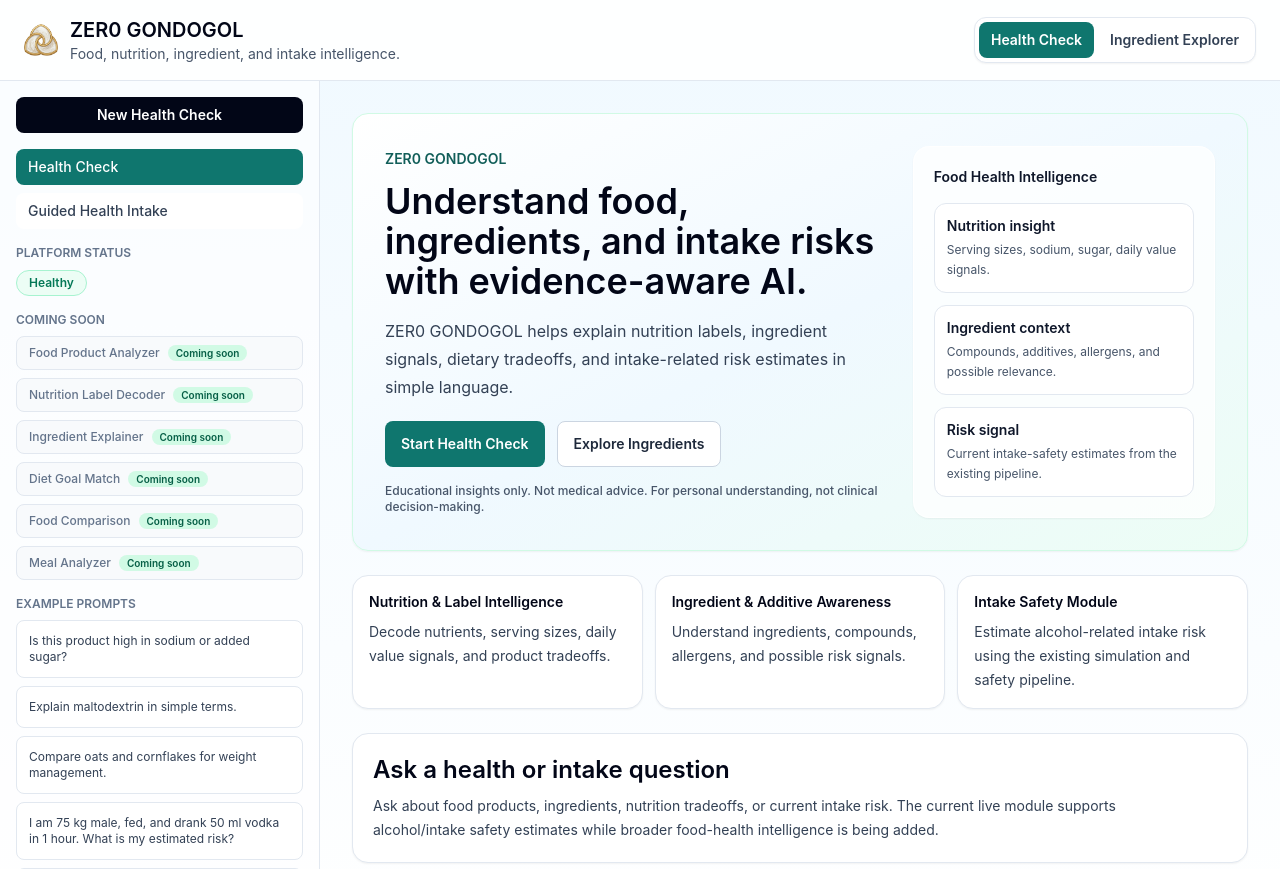
App navigation › navigates between Health Check and Ingredient Explorer
Expected: the heading "Ask a health or intake question" is shown, left=373, top=755, right=730, bottom=784
Click the button "Ingredient Explorer". click: {"x": 1175, "y": 40}
box: left=1098, top=22, right=1251, bottom=58
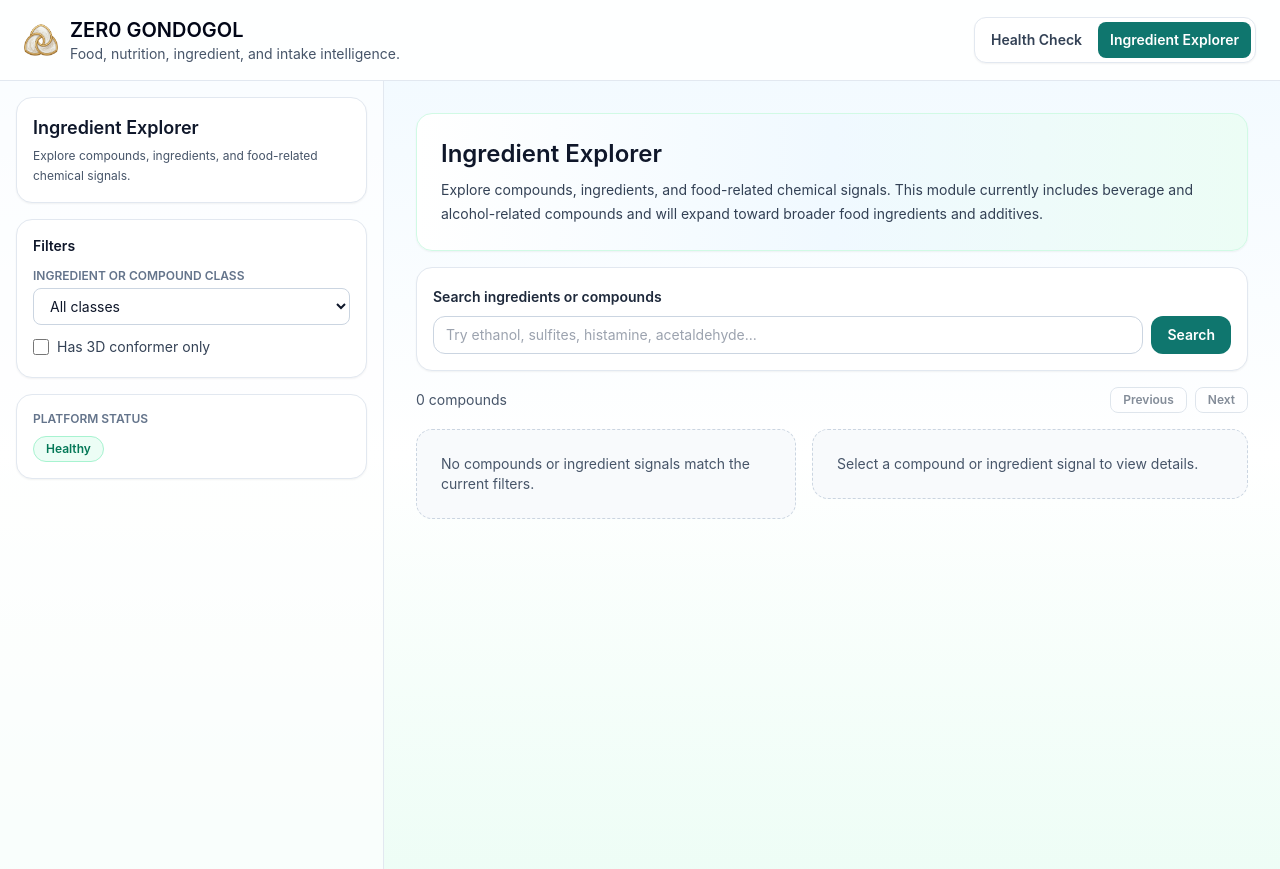
Expected: the 2nd heading "Ingredient Explorer" is shown, left=441, top=139, right=662, bottom=168
Click the button "Health Check". click: {"x": 1037, "y": 40}
box: left=979, top=22, right=1094, bottom=58
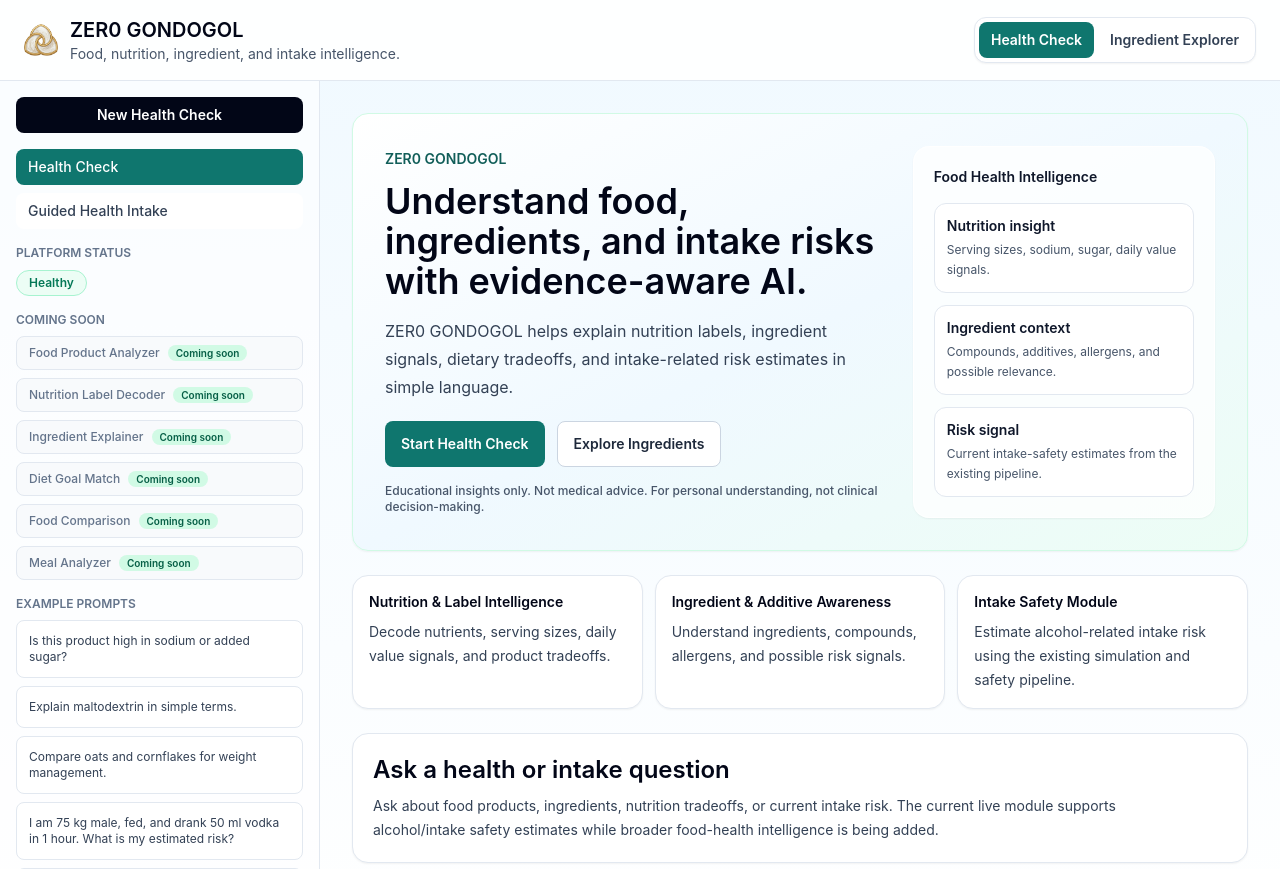
Expected: the heading "Ask a health or intake question" is shown, left=373, top=755, right=730, bottom=784
